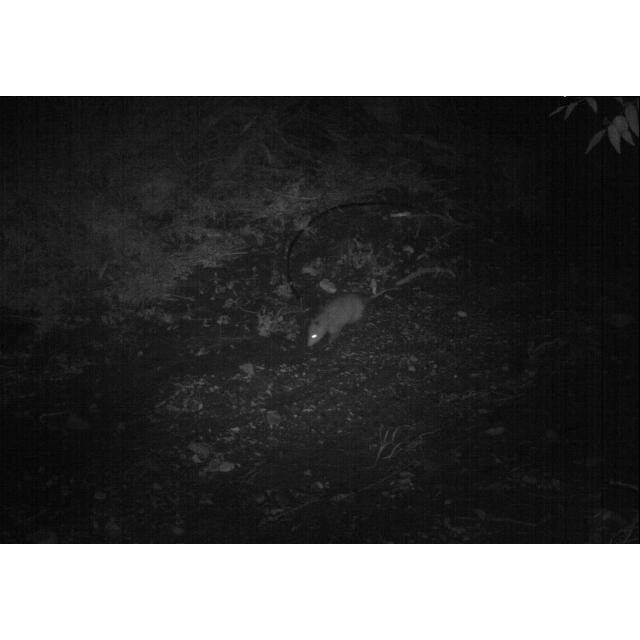animals: (308, 286, 398, 348)
